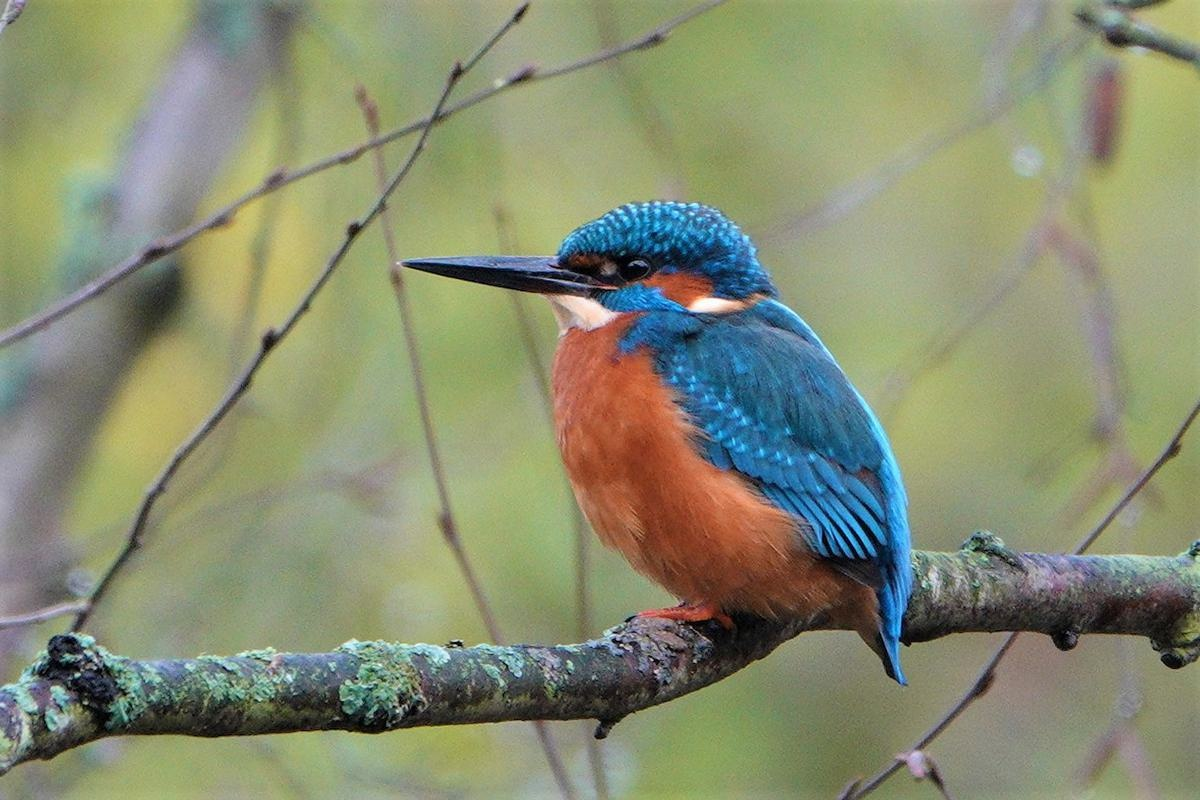kingfisher: (407, 183, 963, 692)
